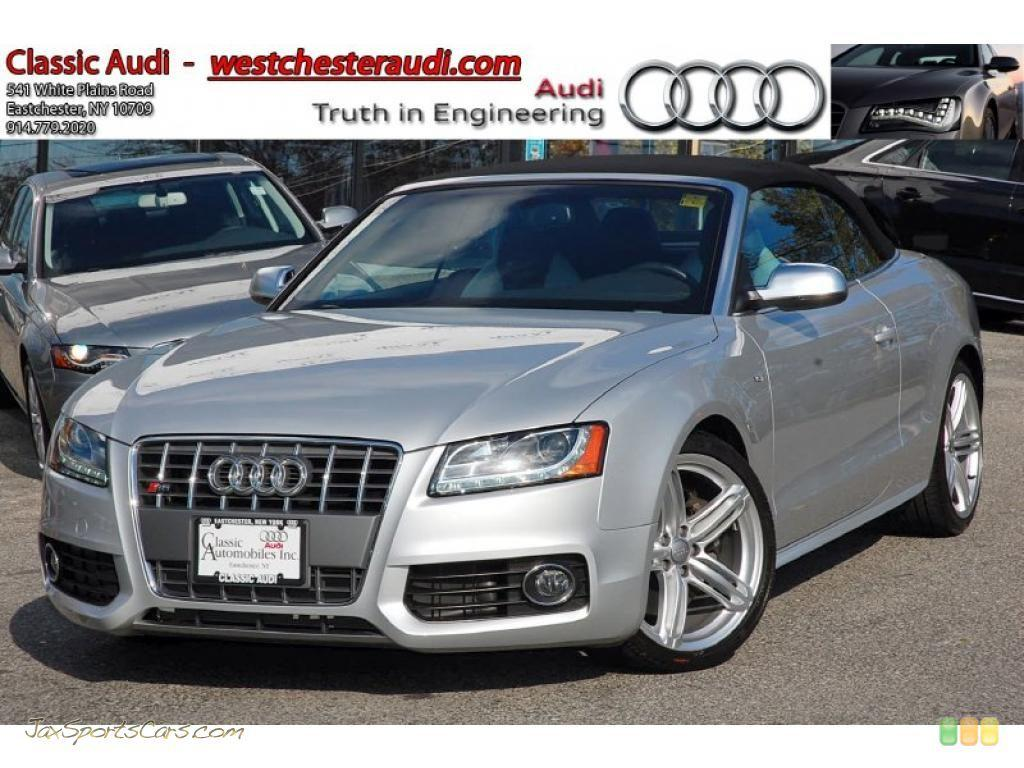Car: (24, 141, 1024, 717), (1, 136, 399, 481)
